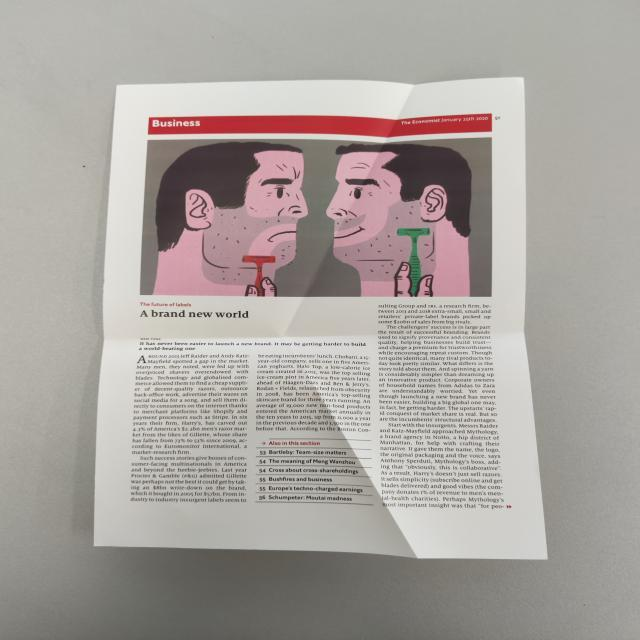document: (94, 78, 547, 559)
